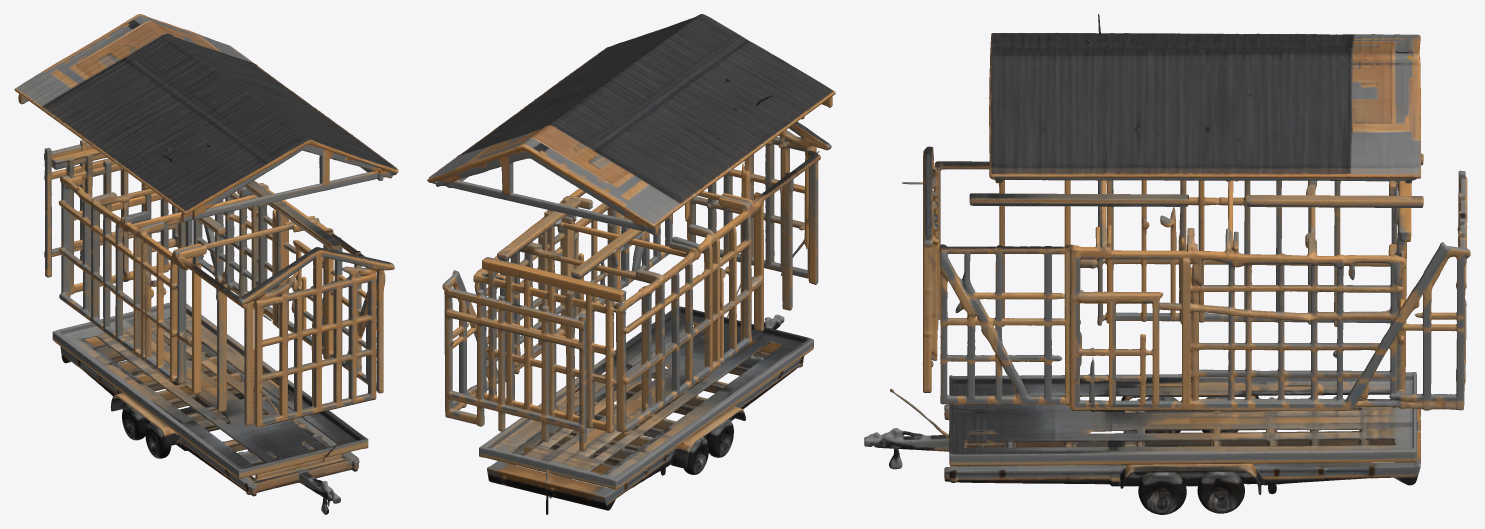
Rendered from exploded wooden house model.glb.
The picture shows the model from 3 angles, left to right: view 1: azimuth 30°, elevation 25°; view 2: azimuth 150°, elevation 25°; view 3: azimuth 270°, elevation 25°; orthographic projection. The views are drawn at different scales.
Parts seen in each view (by area): view 1: tripo_node_04d29a7d-84d2-424f-987b-cad386e15285; view 2: tripo_node_04d29a7d-84d2-424f-987b-cad386e15285; view 3: tripo_node_04d29a7d-84d2-424f-987b-cad386e15285.
Boxes of the visible parts, left/top/right/bottom form: tripo_node_04d29a7d-84d2-424f-987b-cad386e15285: left=14, top=14, right=398, bottom=514; tripo_node_04d29a7d-84d2-424f-987b-cad386e15285: left=427, top=14, right=835, bottom=514; tripo_node_04d29a7d-84d2-424f-987b-cad386e15285: left=864, top=14, right=1470, bottom=514.
Size of the model in its own units: 0.5138 by 0.7931 by 1.
Materials: 1 (1 with a texture image).
